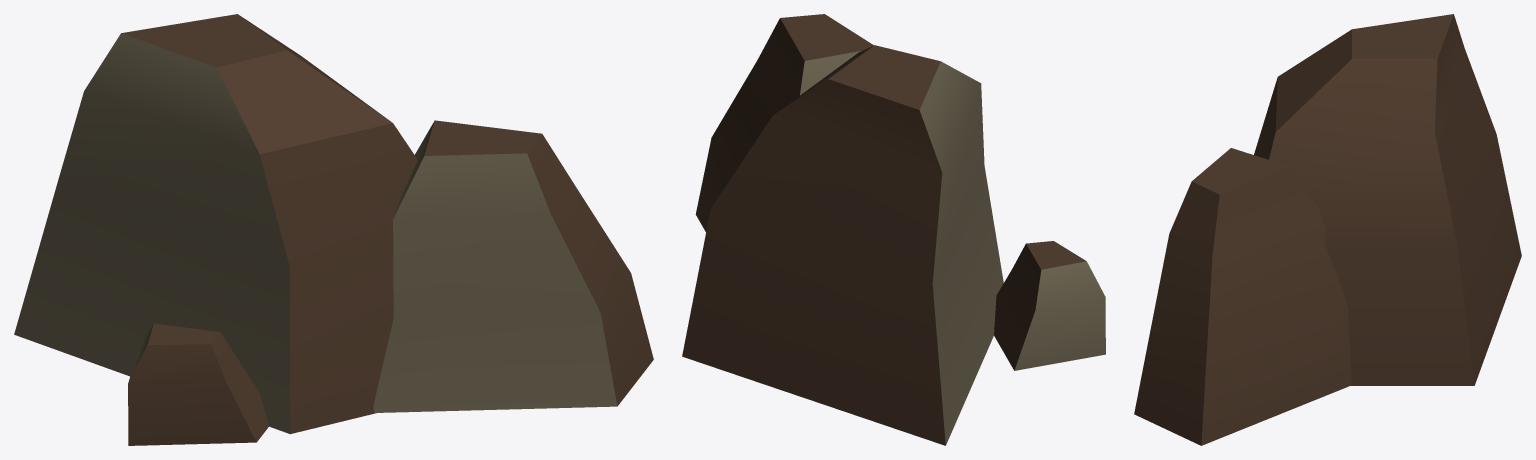
Rendered from rocks1.fbx.
3 renders of one model, left to right at view 1: azimuth 30°, elevation 25°; view 2: azimuth 150°, elevation 25°; view 3: azimuth 270°, elevation 25°, orthographic. The views are drawn at different scales.
Visible parts, largest first — view 1: rocks.001; view 2: rocks.001; view 3: rocks.001.
Part boxes in pixels (x1,y1,x2,y2): rocks.001: [14, 14, 653, 445]; rocks.001: [682, 14, 1105, 445]; rocks.001: [1134, 14, 1521, 445].
Bounding box in the file's own units: 169 × 105 × 137.
